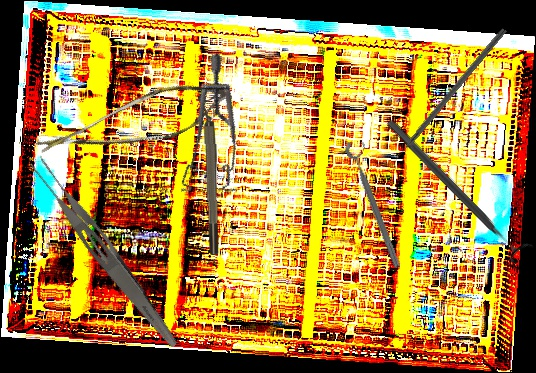Dressing Forceps: (24, 152, 188, 352)
Fixation Ring: (378, 110, 535, 268), (343, 137, 411, 270), (197, 89, 222, 256)
Hook Surgical: (388, 26, 507, 166)
Micro Scissor: (33, 51, 237, 198)
Speculum: (134, 50, 275, 213)
